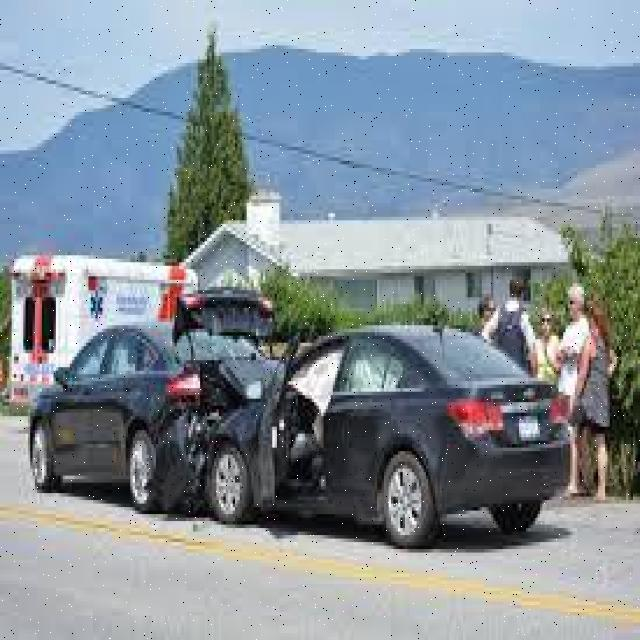moderate: (23, 276, 575, 549)
